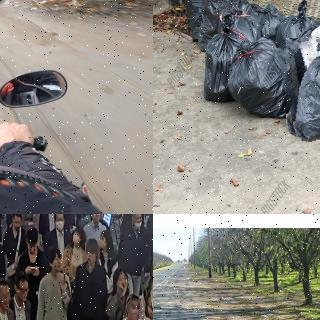Garbage: (228, 37, 293, 118), (280, 34, 320, 140), (204, 18, 250, 102), (276, 1, 320, 58), (200, 0, 242, 46), (182, 0, 220, 39), (257, 1, 287, 38)
